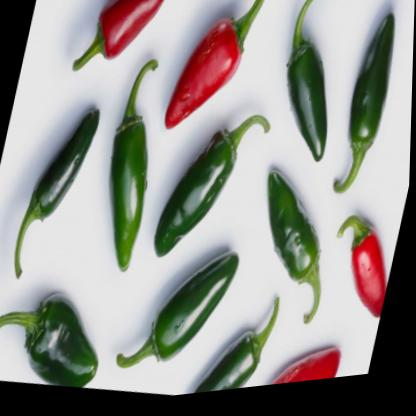--: (112, 229, 246, 402), (4, 97, 107, 299), (326, 12, 412, 218), (157, 0, 268, 156), (0, 278, 120, 401), (318, 212, 404, 347)
